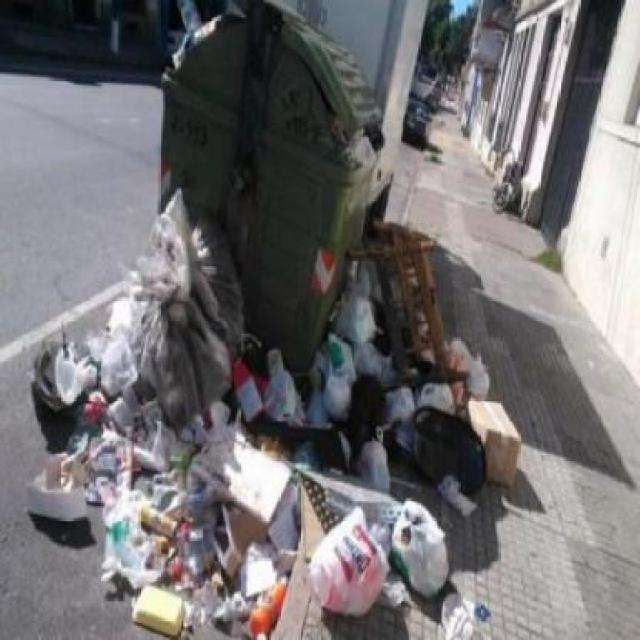garbage: (151, 200, 514, 638), (43, 305, 260, 639), (331, 119, 400, 156)
